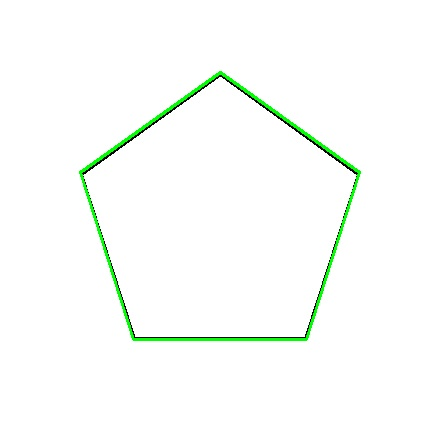line_segment: (79, 72, 360, 340)
